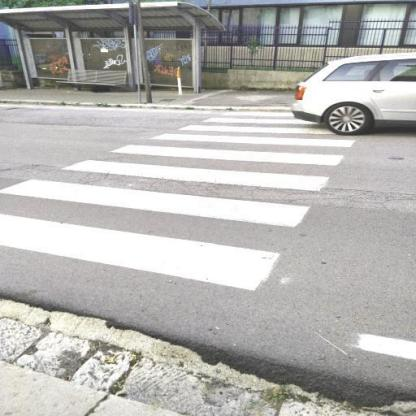crosswalk: (22, 141, 374, 196)
